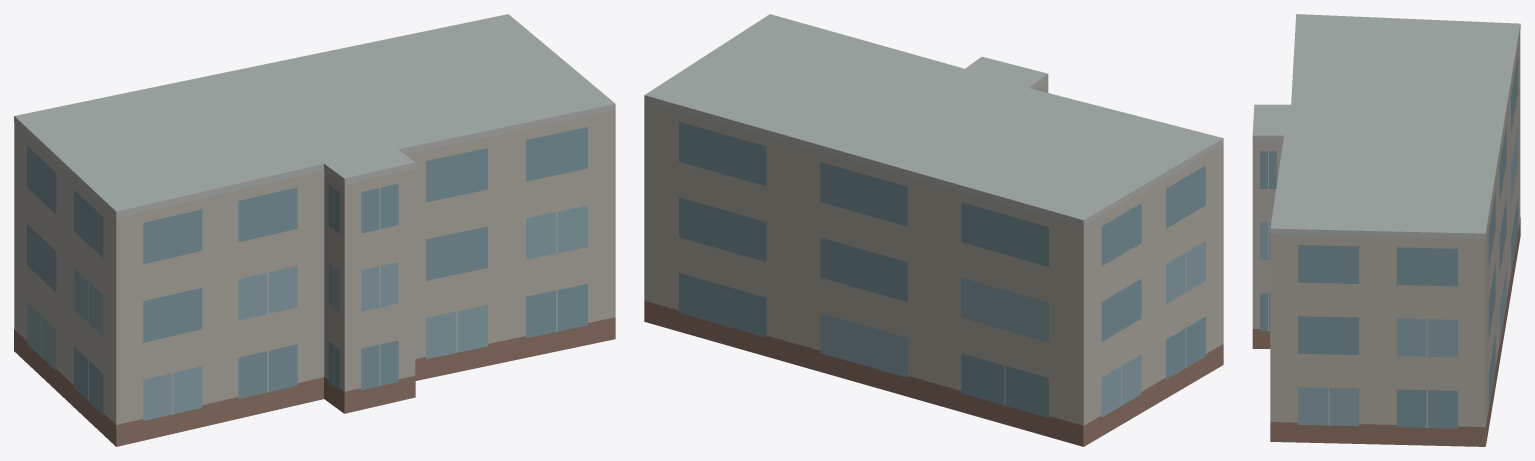
The model's file is survey-upis-32676824.glb.
The picture shows the model from 3 angles, left to right: view 1: azimuth 30°, elevation 25°; view 2: azimuth 150°, elevation 25°; view 3: azimuth 270°, elevation 25°; orthographic projection. The views are drawn at different scales.
Visible parts, largest first — view 1: survey-upis-32676824.tmp; view 2: survey-upis-32676824.tmp; view 3: survey-upis-32676824.tmp.
Boxes of the visible parts, box(x1,y1,x2,y2) form: survey-upis-32676824.tmp: box(14, 14, 615, 446); survey-upis-32676824.tmp: box(644, 14, 1223, 446); survey-upis-32676824.tmp: box(1252, 14, 1520, 446).
Bounding box in the file's own units: 20.23 × 9.15 × 10.43.
